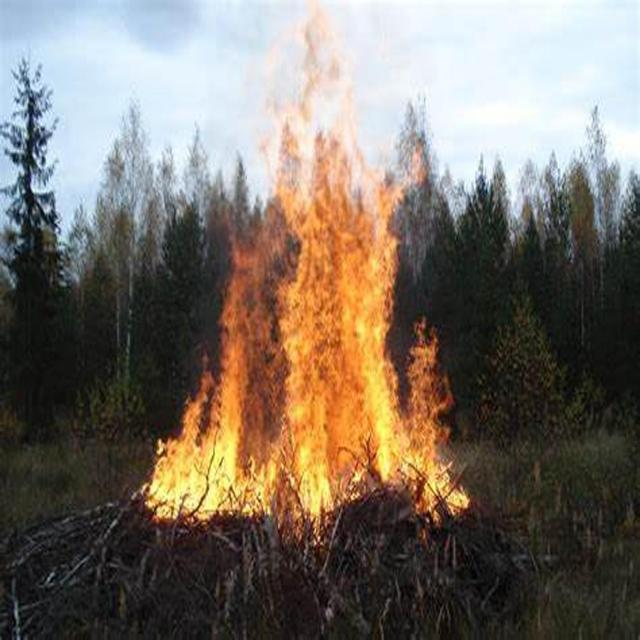fire: (296, 48, 398, 496), (218, 277, 270, 508), (402, 322, 454, 479), (159, 408, 222, 525)
